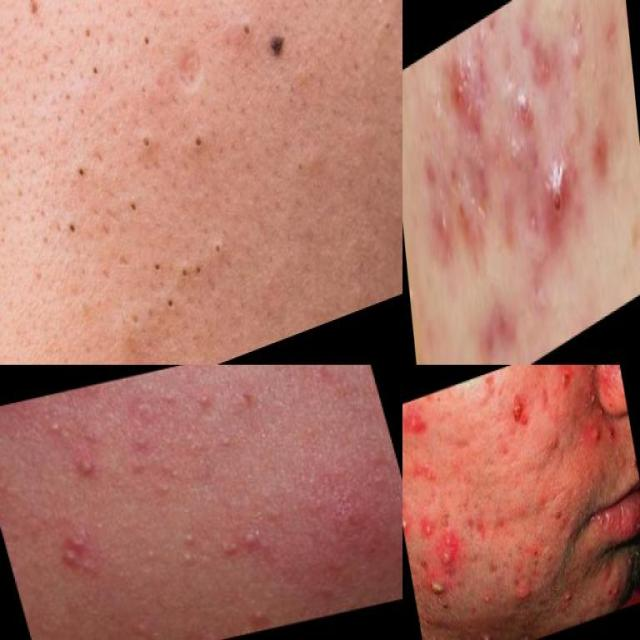acne_scars: (171, 24, 206, 99)
comedone: (140, 218, 240, 330), (274, 138, 314, 206), (365, 0, 402, 70), (42, 207, 88, 263), (172, 382, 228, 428), (220, 1, 260, 64), (165, 526, 208, 579), (127, 15, 167, 69), (564, 0, 588, 82), (125, 115, 159, 170), (185, 112, 217, 170), (58, 149, 94, 195), (114, 190, 146, 230)
papule: (198, 510, 281, 577), (534, 146, 580, 258), (42, 524, 108, 584), (508, 71, 543, 147), (402, 404, 432, 468), (502, 386, 536, 442), (577, 412, 606, 460), (512, 575, 541, 619), (557, 579, 581, 618)
pustule: (60, 443, 111, 491), (424, 567, 449, 611), (470, 617, 501, 640), (418, 512, 434, 544)
sebo-crystan-conglo: (440, 43, 485, 150), (437, 522, 461, 584)
